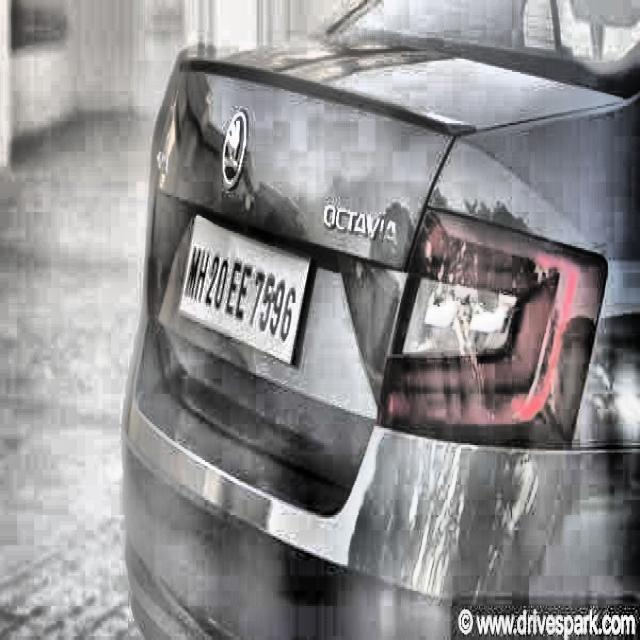license_plate: (182, 226, 298, 358)
